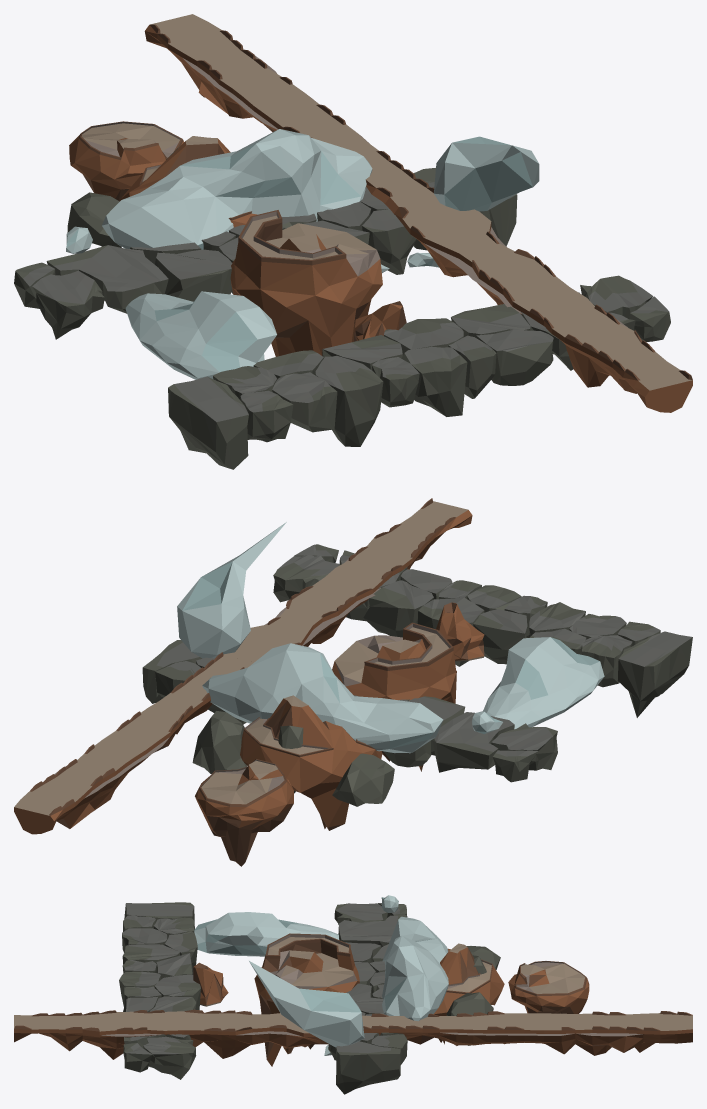
The model's file is PullNubes01.fbx.
3 renders of one model, top to bottom at view 1: azimuth 30°, elevation 25°; view 2: azimuth 150°, elevation 25°; view 3: azimuth 270°, elevation 25°, orthographic. The views are drawn at different scales.
Parts seen in each view (by area): view 1: Nube02, EscenarioTieera01, TierraFlotante01, EscenarioTierra02, Nube01, Nube03, TierraFlotante03, Cubo.001, Cubo.016_Cubo.013, Cubo.006, Cubo.009, Cubo.016_Cubo.014 (+21 smaller); view 2: Nube02, EscenarioTierra02, EscenarioTieera01, TierraFlotante02, TierraFlotante01, Nube01, TierraFlotante03, Nube03, Cubo.001, Cubo.016_Cubo.013, Cubo.013, RocaParticula02 (+19 smaller); view 3: EscenarioTierra02, EscenarioTieera01, Nube02, TierraFlotante01, Nube03, Nube01, TierraFlotante03, Cubo.016_Cubo.000, TierraFlotante02, Cubo.016, Cubo.016_Cubo.013, Cubo.001 (+23 smaller).
Boxes of the visible parts, left/top/right/bottom form: Nube02: left=102, top=129, right=372, bottom=249; EscenarioTieera01: left=394, top=198, right=692, bottom=412; TierraFlotante01: left=230, top=210, right=382, bottom=356; EscenarioTierra02: left=144, top=14, right=436, bottom=213; Nube01: left=125, top=291, right=276, bottom=379; Nube03: left=434, top=136, right=539, bottom=211; TierraFlotante03: left=69, top=121, right=183, bottom=201; Cubo.001: left=168, top=376, right=248, bottom=469; Cubo.016_Cubo.013: left=46, top=245, right=168, bottom=313; Cubo.006: left=315, top=355, right=383, bottom=446; Cubo.009: left=401, top=346, right=467, bottom=416; Cubo.016_Cubo.014: left=32, top=270, right=104, bottom=339; Nube02: left=202, top=643, right=443, bottom=753; EscenarioTierra02: left=14, top=652, right=253, bottom=834; EscenarioTieera01: left=223, top=498, right=472, bottom=662; TierraFlotante02: left=240, top=695, right=382, bottom=830; TierraFlotante01: left=332, top=622, right=456, bottom=771; Nube01: left=482, top=637, right=604, bottom=729; TierraFlotante03: left=195, top=759, right=293, bottom=866; Nube03: left=177, top=522, right=286, bottom=658; Cubo.001: left=617, top=631, right=692, bottom=717; Cubo.016_Cubo.013: left=432, top=712, right=514, bottom=772; Cubo.013: left=363, top=580, right=433, bottom=637; RocaParticula02: left=192, top=711, right=246, bottom=773; EscenarioTierra02: left=362, top=1011, right=692, bottom=1055; EscenarioTieera01: left=14, top=1009, right=328, bottom=1059; Nube02: left=382, top=916, right=448, bottom=1021; TierraFlotante01: left=254, top=933, right=359, bottom=1066; Nube03: left=249, top=961, right=364, bottom=1047; Nube01: left=194, top=912, right=339, bottom=956; TierraFlotante03: left=508, top=961, right=589, bottom=1013; Cubo.016_Cubo.000: left=335, top=1041, right=400, bottom=1094; TierraFlotante02: left=433, top=943, right=504, bottom=1044; Cubo.016: left=143, top=1036, right=196, bottom=1079; Cubo.016_Cubo.013: left=338, top=914, right=406, bottom=947; Cubo.001: left=124, top=902, right=194, bottom=923.
Bounding box in the file's own units: 870 × 439 × 1630.
